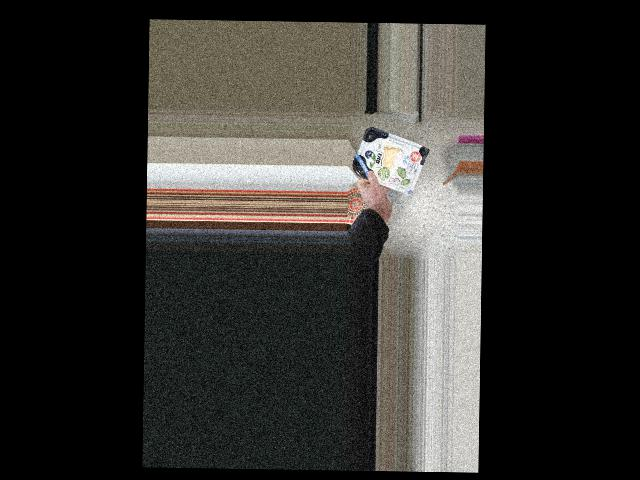cheese: (359, 135, 422, 187)
